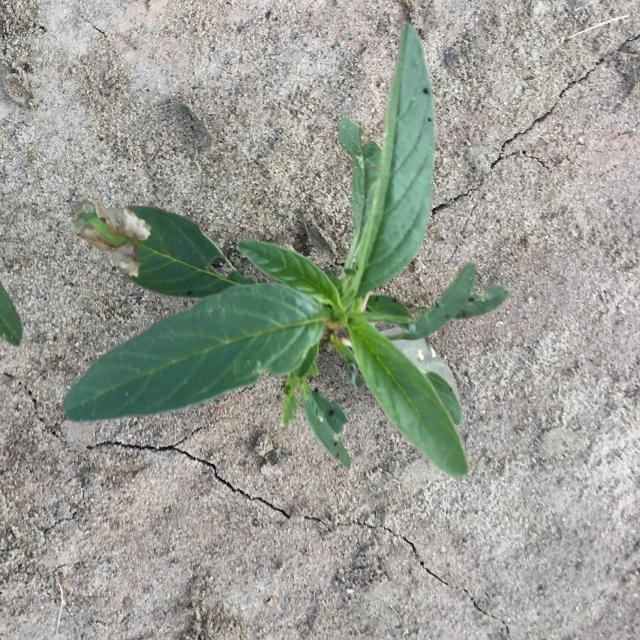Waterhemp: (63, 23, 510, 478)
